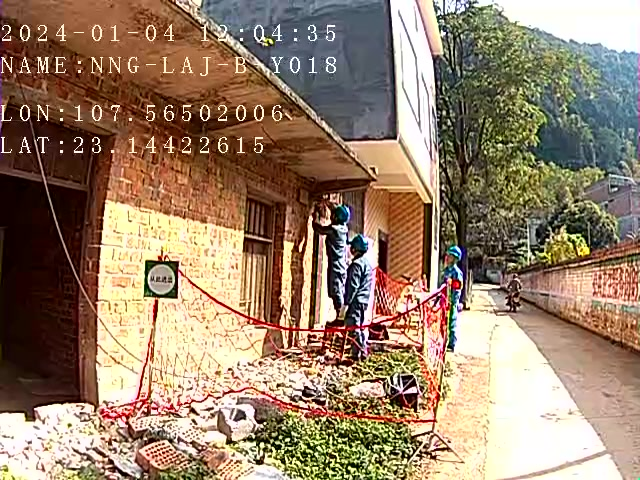halt: (350, 236, 372, 261), (333, 207, 353, 228), (446, 249, 465, 269)
